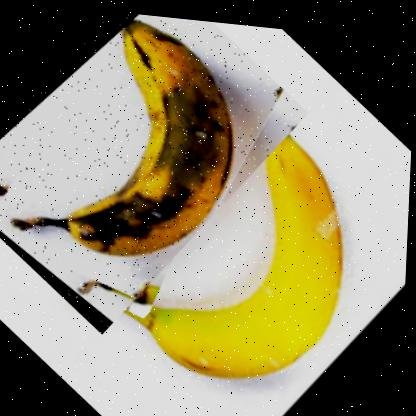banana_rotten: (0, 0, 313, 350)
